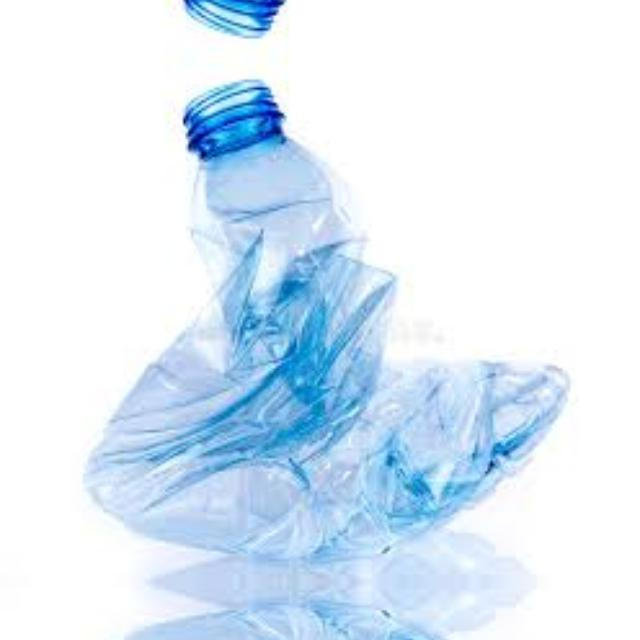Plastic: (75, 73, 581, 573), (75, 591, 581, 640), (75, 0, 581, 43)
